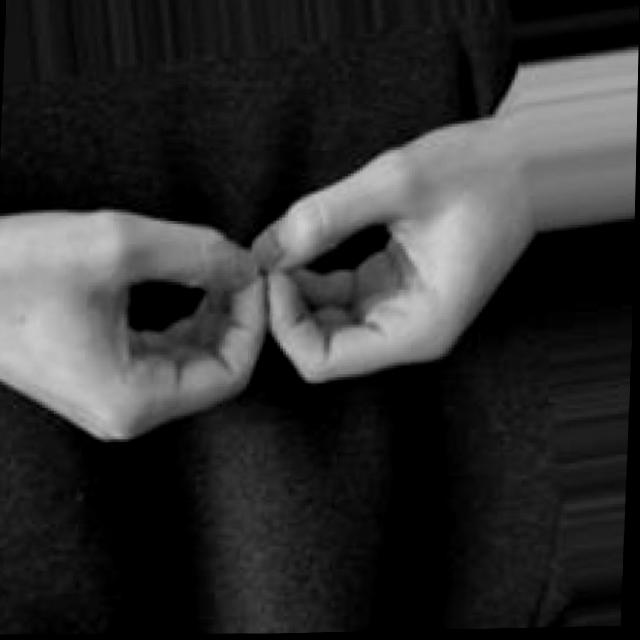B: (0, 111, 543, 453)
